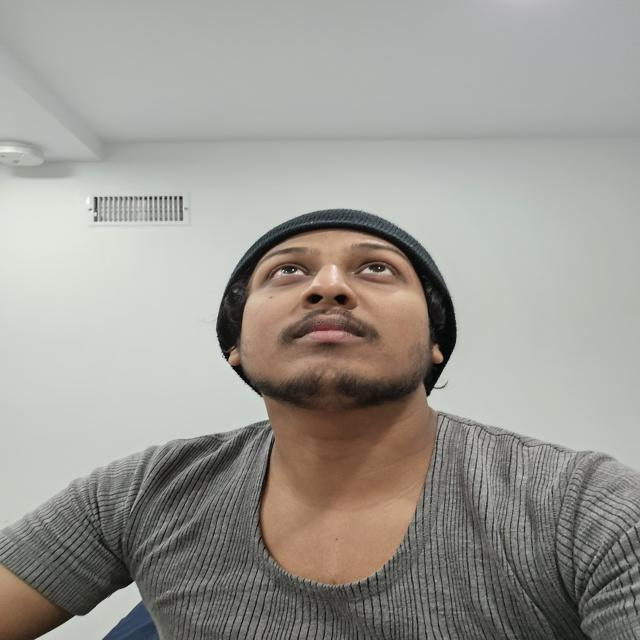cap: (168, 205, 492, 344)
